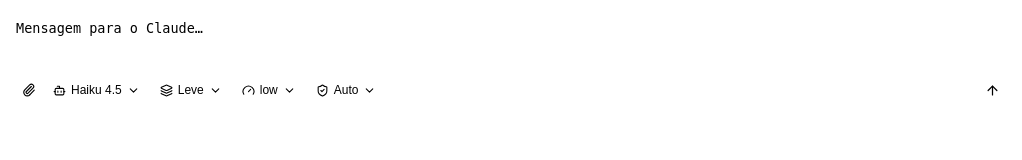
Test: ComposerBox › digitar "/" mostra comandos locais e skills; skill segue para o Claude
The width and height of the screenshot is (1022, 160).
Type "/demo" into the text box with placeholder "Mensagem para o Claude…" at point(511, 44), box [16,16,1006,72]
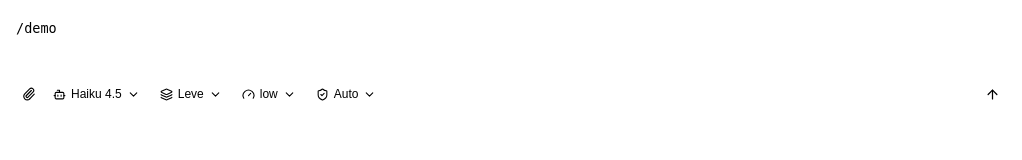
Press Enter in the text box, box [16,16,1006,76]
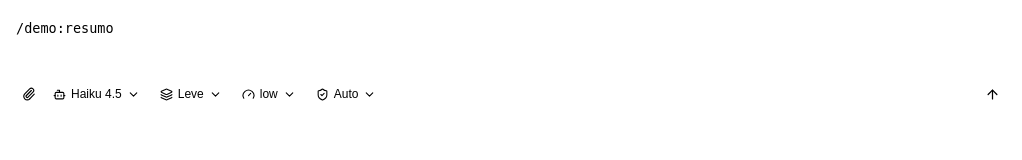
Check: the text box holds "/demo:resumo ", box [16,16,1006,76]
